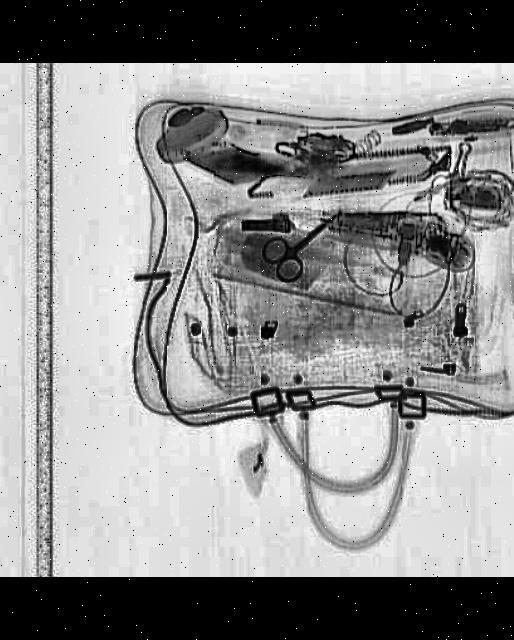Scissors: (250, 205, 348, 289)
